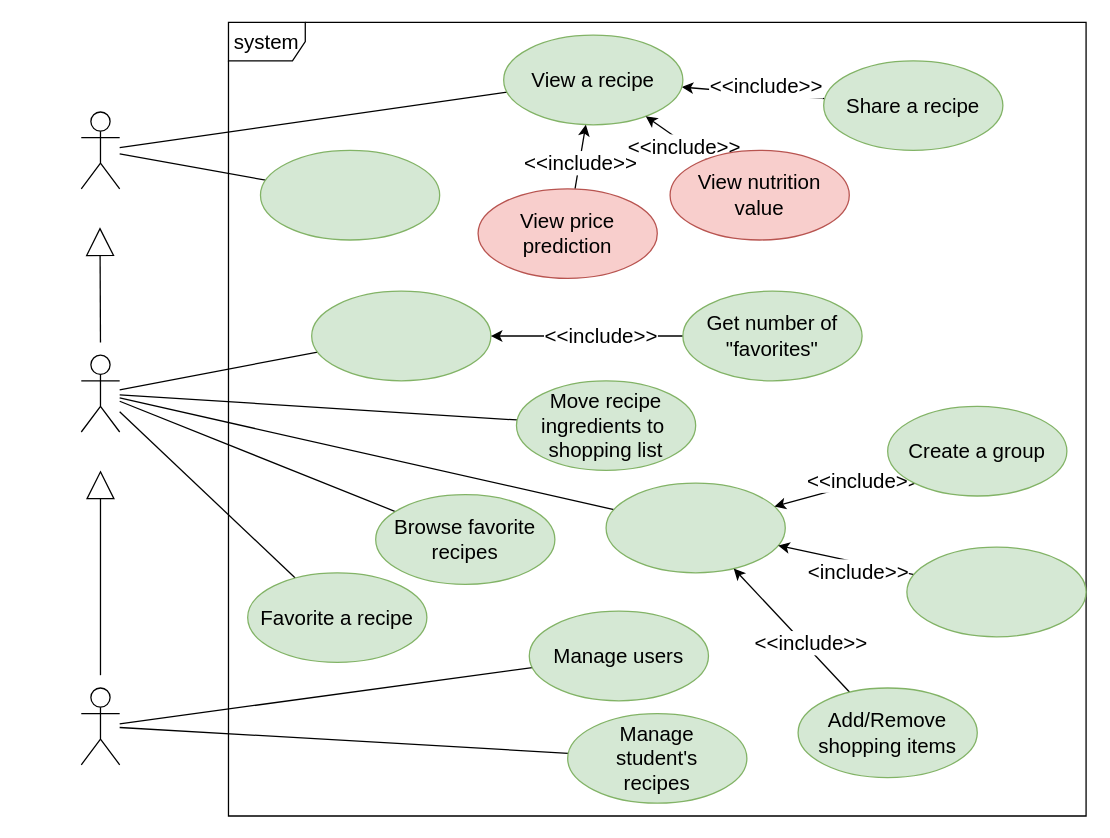
The diagram is 1110 pixels wide and 838 high, and some of its shapes have lost their labels. The centre of each missing label's shape, as x and y in pixels:
Add/Remove people: point 996,591
Admin: point 100,726
Anonymous User: point 100,150
Logged In User: point 100,393
Manage recipes: point 400,335
Manage shared shopping lists: point 695,527
Search for a recipe: point 349,194
